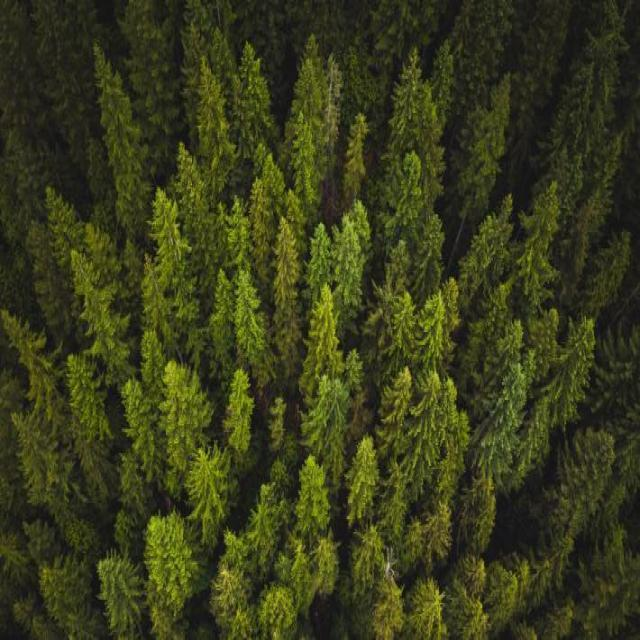tree: (386, 51, 446, 218), (94, 42, 146, 226), (70, 248, 132, 378), (0, 305, 64, 427), (11, 414, 75, 528), (459, 76, 513, 204), (481, 359, 527, 476), (563, 414, 609, 530), (150, 508, 192, 632), (274, 218, 302, 374), (590, 230, 634, 326), (48, 548, 92, 640), (124, 371, 160, 474), (196, 57, 230, 166), (65, 352, 107, 440), (232, 268, 268, 360), (172, 358, 208, 444), (106, 557, 142, 639), (292, 110, 320, 214), (120, 448, 150, 544), (392, 286, 428, 362), (309, 276, 335, 378), (312, 219, 346, 297), (215, 552, 245, 640), (232, 365, 256, 473), (194, 448, 230, 520), (490, 562, 524, 638), (346, 106, 372, 204), (300, 449, 328, 539), (293, 545, 331, 611), (448, 572, 484, 640), (418, 207, 444, 297), (265, 383, 289, 475), (386, 230, 418, 298), (262, 578, 298, 638), (355, 426, 377, 522), (212, 269, 232, 371), (155, 185, 181, 263), (312, 528, 336, 612), (572, 312, 596, 396), (293, 448, 323, 514), (385, 362, 411, 436), (534, 180, 560, 252), (409, 578, 439, 640), (72, 510, 100, 568), (344, 208, 371, 268), (142, 330, 162, 398)
